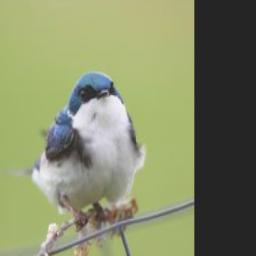Swallow: (0, 70, 148, 232)
